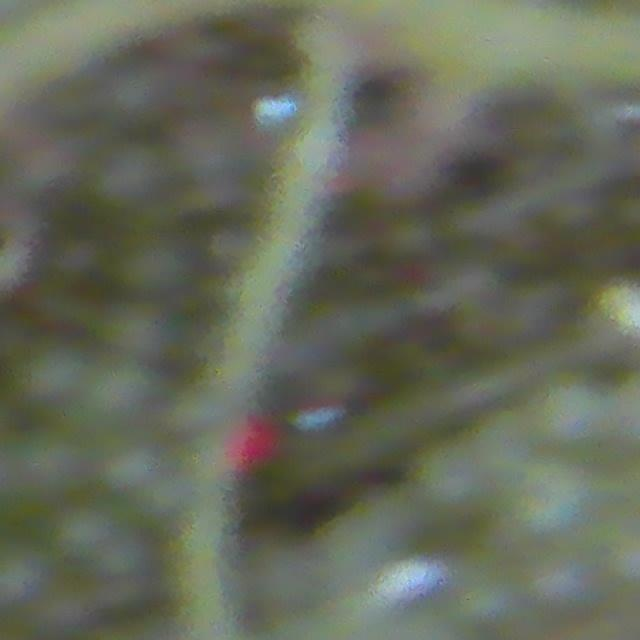SeaGrape: (532, 373, 616, 451), (414, 440, 487, 516), (526, 548, 598, 619), (0, 538, 50, 610)
